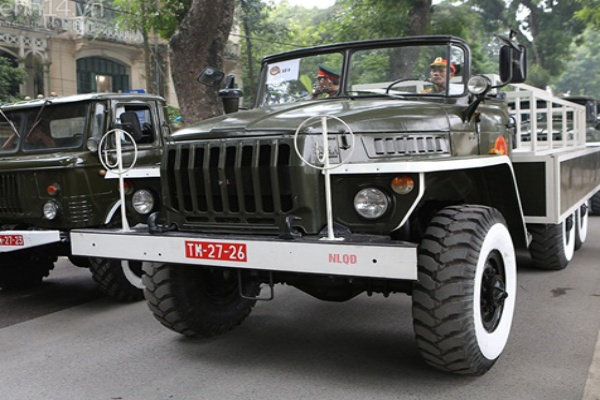plate: (185, 239, 252, 265), (0, 234, 26, 248)
